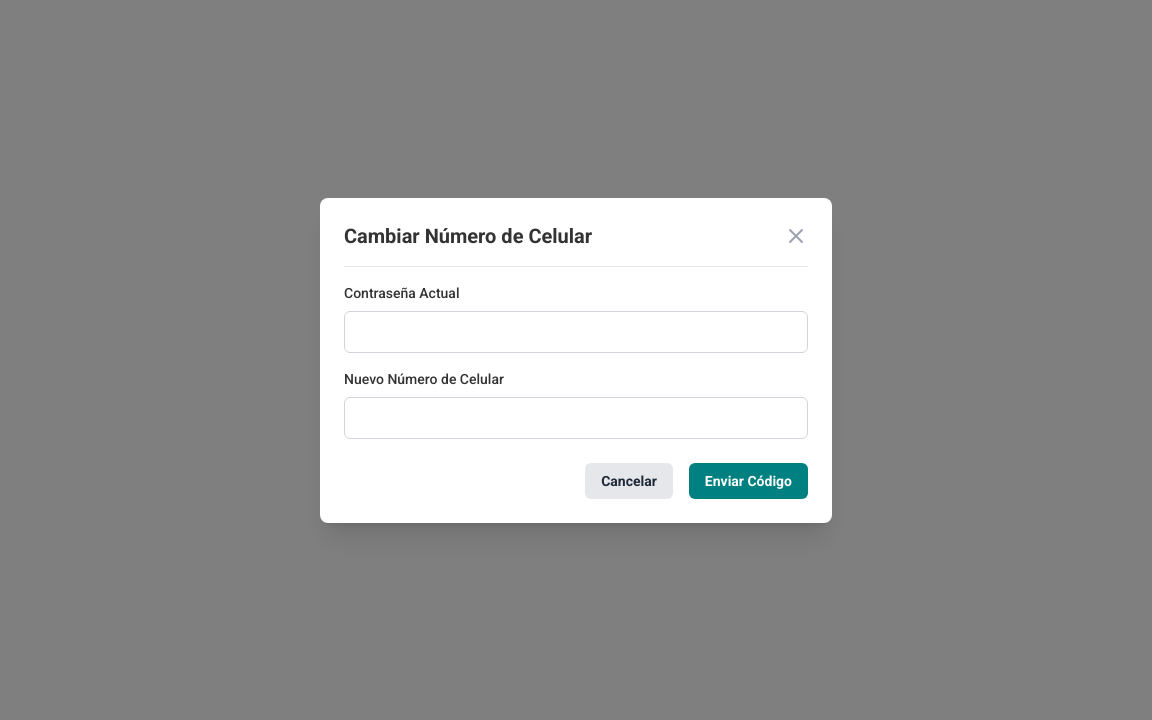
ChangeCelularModal › debería mostrar un error si la solicitud de cambio falla
Note: Simulamos la entrada y envío de datos.
In the password field labelled "Contraseña Actual": {"x": 576, "y": 332} [344,310,808,352], type "wrongpassword"
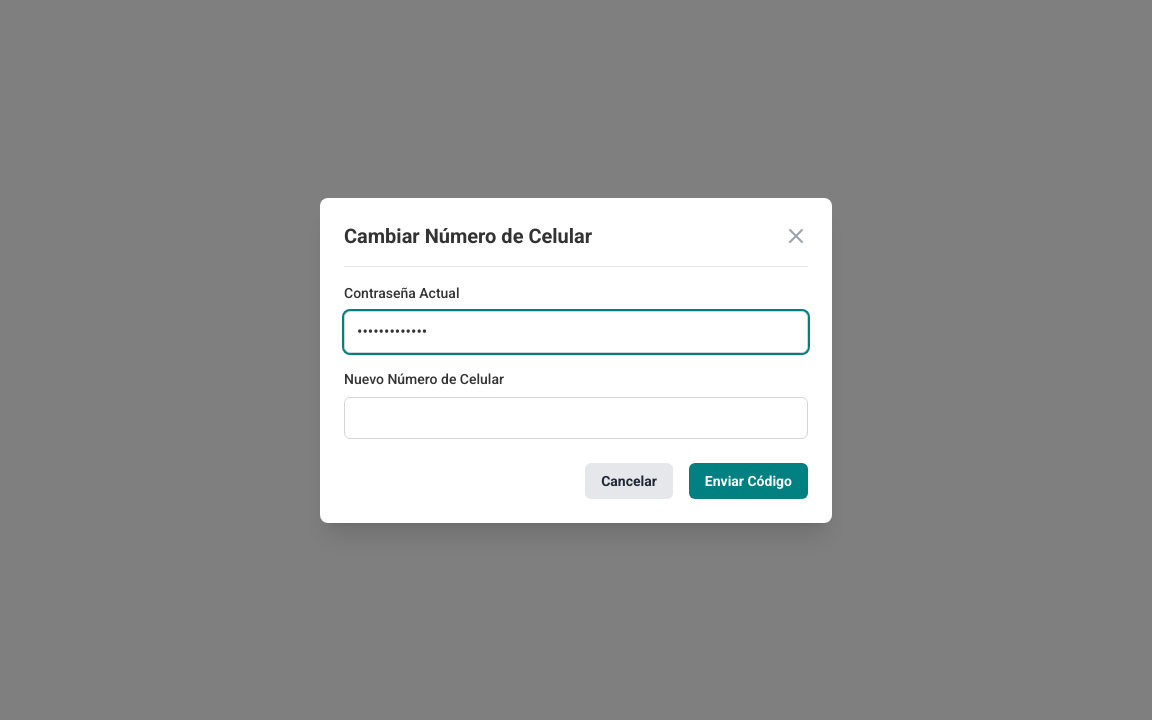
In the field labelled "Nuevo Número de Celular": {"x": 576, "y": 418} [344,396,808,438], type "3001234567"
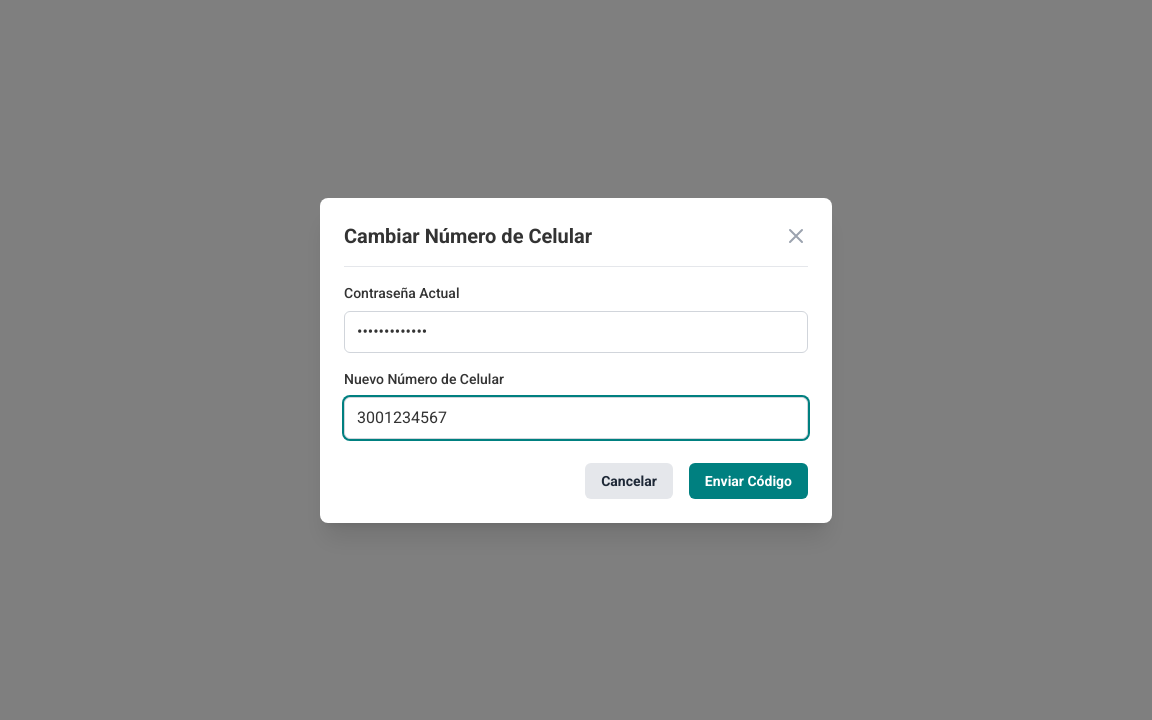
Click the button "Enviar Código": {"x": 748, "y": 480} [689,462,808,498]
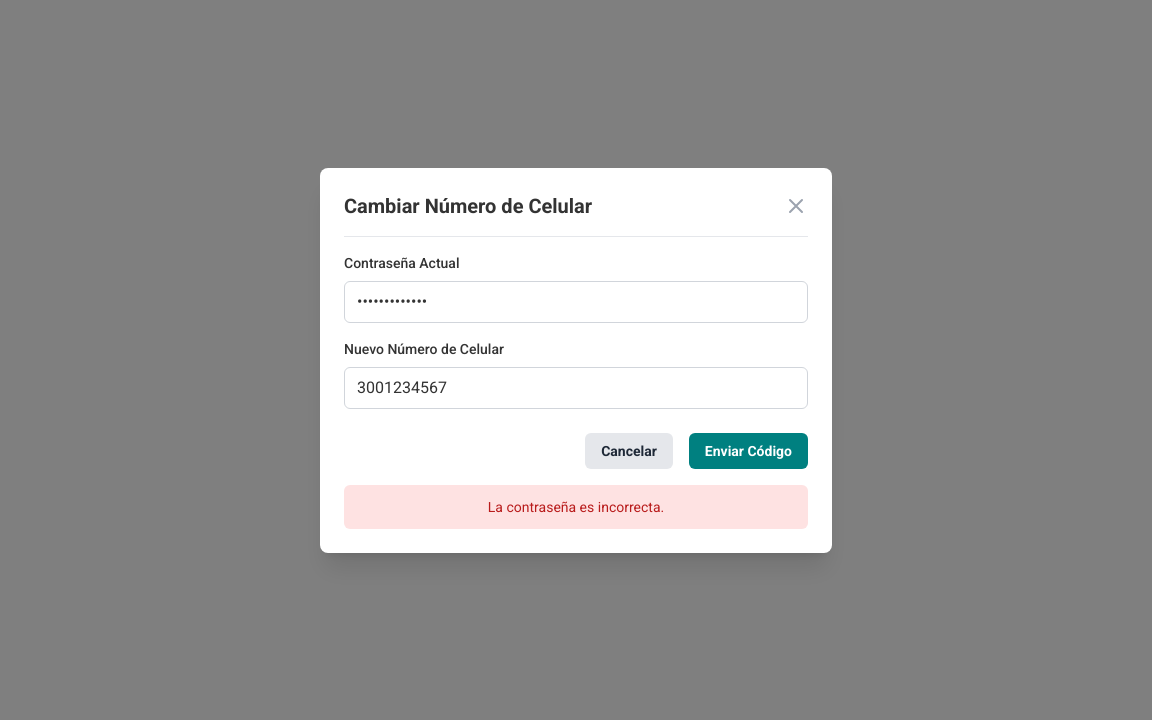
Expected: the heading "Cambiar Número de Celular" is shown, [344,192,592,220]
Now the text "La contraseña es incorrecta." is shown, box [344,484,808,528]
